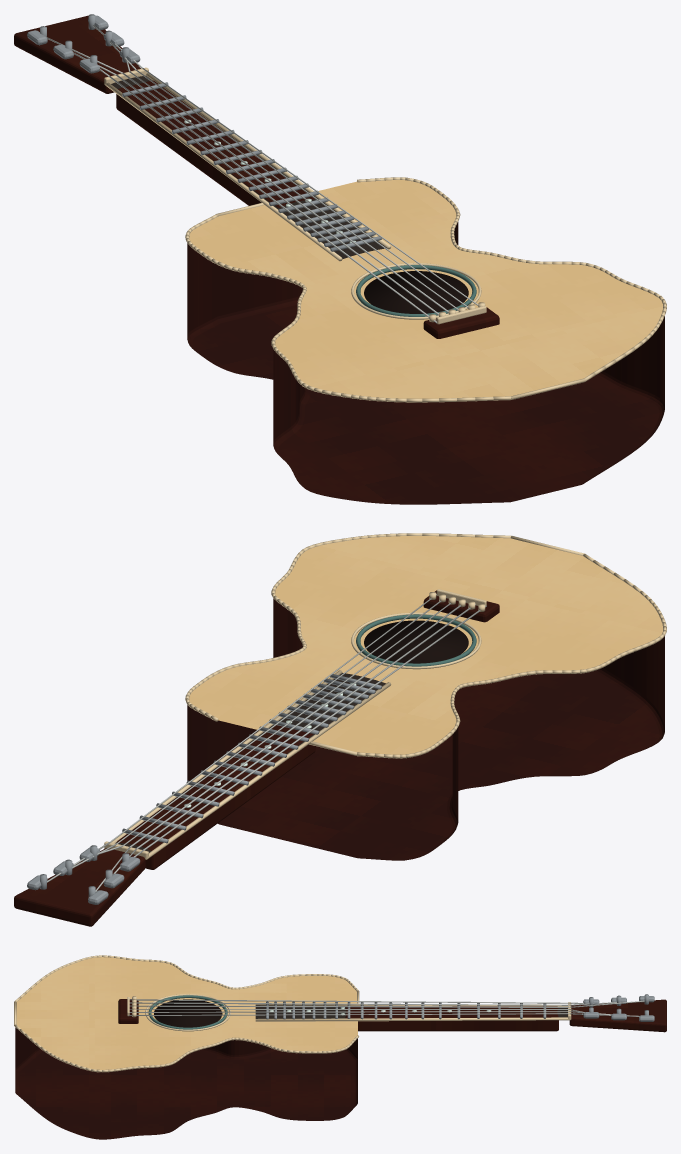
File: acoustic-guitar-authored.glb
The picture shows the model from 3 angles, top to bottom: view 1: azimuth 30°, elevation 25°; view 2: azimuth 150°, elevation 25°; view 3: azimuth 270°, elevation 25°; orthographic projection. The views are drawn at different scales.
Parts seen in each view (by area): view 1: Chord Hero Authored Acoustic Guitar | Spruce | pale satin ba, Chord Hero Authored Acoustic Guitar | Mahogany | warm shell , Chord Hero Authored Acoustic Guitar | Mahogany | neck batch, Chord Hero Authored Acoustic Guitar | Ivory | binding batch, Chord Hero Authored Acoustic Guitar | Nickel | hardware batc, Chord Hero Authored Acoustic Guitar | Steel | strings batch, Chord Hero Authored Acoustic Guitar | Soundhole | cavity bat, Chord Hero Authored Acoustic Guitar | Ebony | fretboard batc, Chord Hero Authored Acoustic Guitar | Rosette | dark pearl b; view 2: Chord Hero Authored Acoustic Guitar | Spruce | pale satin ba, Chord Hero Authored Acoustic Guitar | Mahogany | warm shell , Chord Hero Authored Acoustic Guitar | Mahogany | neck batch, Chord Hero Authored Acoustic Guitar | Ivory | binding batch, Chord Hero Authored Acoustic Guitar | Nickel | hardware batc, Chord Hero Authored Acoustic Guitar | Steel | strings batch, Chord Hero Authored Acoustic Guitar | Soundhole | cavity bat, Chord Hero Authored Acoustic Guitar | Ebony | fretboard batc, Chord Hero Authored Acoustic Guitar | Rosette | dark pearl b; view 3: Chord Hero Authored Acoustic Guitar | Mahogany | warm shell , Chord Hero Authored Acoustic Guitar | Spruce | pale satin ba, Chord Hero Authored Acoustic Guitar | Mahogany | neck batch, Chord Hero Authored Acoustic Guitar | Steel | strings batch, Chord Hero Authored Acoustic Guitar | Ivory | binding batch, Chord Hero Authored Acoustic Guitar | Nickel | hardware batc, Chord Hero Authored Acoustic Guitar | Soundhole | cavity bat, Chord Hero Authored Acoustic Guitar | Ebony | fretboard batc, Chord Hero Authored Acoustic Guitar | Rosette | dark pearl b.
Part boxes in pixels (x1,y1,x2,y2): Chord Hero Authored Acoustic Guitar | Spruce | pale satin ba: [189, 180, 662, 398]; Chord Hero Authored Acoustic Guitar | Mahogany | warm shell : [187, 222, 664, 504]; Chord Hero Authored Acoustic Guitar | Mahogany | neck batch: [14, 15, 499, 338]; Chord Hero Authored Acoustic Guitar | Ivory | binding batch: [104, 67, 666, 402]; Chord Hero Authored Acoustic Guitar | Nickel | hardware batc: [27, 14, 381, 251]; Chord Hero Authored Acoustic Guitar | Steel | strings batch: [46, 25, 478, 323]; Chord Hero Authored Acoustic Guitar | Soundhole | cavity bat: [364, 271, 468, 313]; Chord Hero Authored Acoustic Guitar | Ebony | fretboard batc: [111, 75, 386, 258]; Chord Hero Authored Acoustic Guitar | Rosette | dark pearl b: [356, 265, 476, 316]; Chord Hero Authored Acoustic Guitar | Spruce | pale satin ba: [189, 536, 662, 754]; Chord Hero Authored Acoustic Guitar | Mahogany | warm shell : [187, 598, 664, 860]; Chord Hero Authored Acoustic Guitar | Mahogany | neck batch: [14, 590, 499, 926]; Chord Hero Authored Acoustic Guitar | Ivory | binding batch: [104, 533, 666, 859]; Chord Hero Authored Acoustic Guitar | Nickel | hardware batc: [27, 674, 381, 904]; Chord Hero Authored Acoustic Guitar | Steel | strings batch: [47, 594, 486, 891]; Chord Hero Authored Acoustic Guitar | Soundhole | cavity bat: [364, 620, 468, 663]; Chord Hero Authored Acoustic Guitar | Ebony | fretboard batc: [115, 673, 385, 852]; Chord Hero Authored Acoustic Guitar | Rosette | dark pearl b: [356, 614, 476, 666]; Chord Hero Authored Acoustic Guitar | Mahogany | warm shell : [15, 999, 357, 1139]; Chord Hero Authored Acoustic Guitar | Spruce | pale satin ba: [16, 957, 357, 1069]; Chord Hero Authored Acoustic Guitar | Mahogany | neck batch: [118, 999, 666, 1032]; Chord Hero Authored Acoustic Guitar | Steel | strings batch: [128, 999, 644, 1016]; Chord Hero Authored Acoustic Guitar | Ivory | binding batch: [14, 955, 571, 1072]; Chord Hero Authored Acoustic Guitar | Nickel | hardware batc: [266, 994, 654, 1021]; Chord Hero Authored Acoustic Guitar | Soundhole | cavity bat: [154, 999, 222, 1027]; Chord Hero Authored Acoustic Guitar | Ebony | fretboard batc: [255, 1005, 567, 1018]; Chord Hero Authored Acoustic Guitar | Rosette | dark pearl b: [148, 995, 227, 1029].
Bounding box in the file's own units: 6.52 × 2.11 × 15.55.
10 materials, 3 textured.
